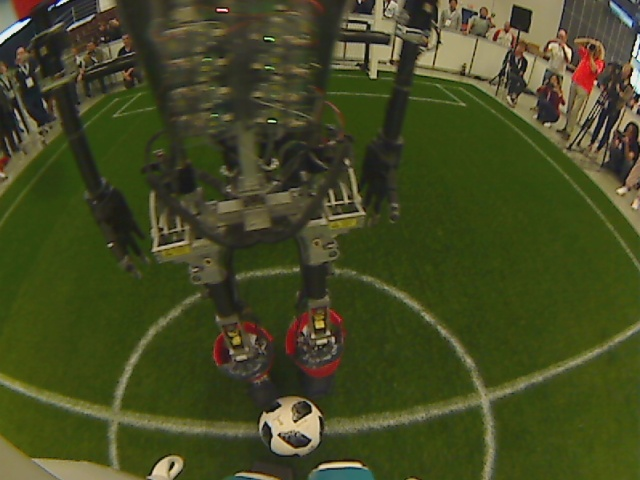ball: (254, 393, 328, 462)
